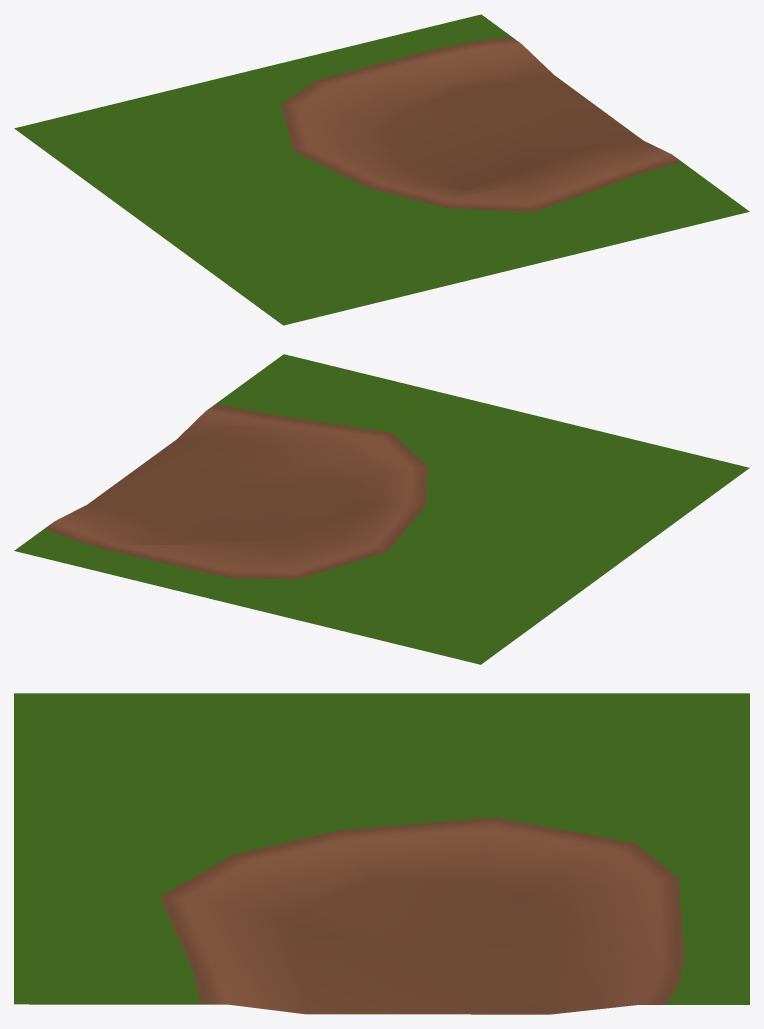
The model's file is GroundHole2_1.fbx.
3 views of the same model, one above another, from view 1: azimuth 30°, elevation 25°; view 2: azimuth 150°, elevation 25°; view 3: azimuth 270°, elevation 25° (orthographic). The views are drawn at different scales.
Parts seen in each view (by area): view 1: GroundHole2_1; view 2: GroundHole2_1; view 3: GroundHole2_1.
Part boxes in pixels (bbox=[...]): GroundHole2_1: bbox=[14, 14, 749, 325]; GroundHole2_1: bbox=[14, 354, 749, 664]; GroundHole2_1: bbox=[14, 693, 749, 1014].
Size of the model in its own units: 401 by 14.49 by 400.
